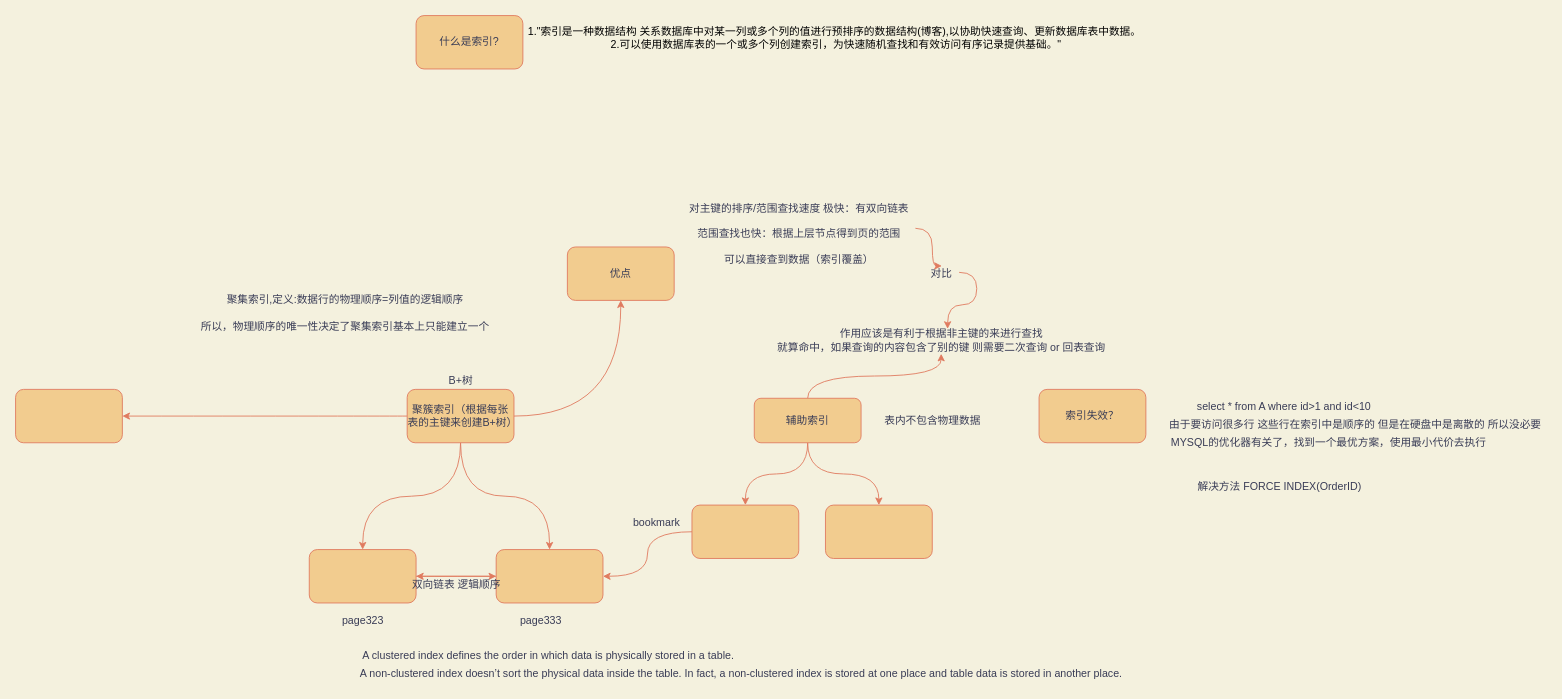
This 1562x699 diagram has some shape labels left out. Here are the shapes that lost their labels. From the top down, the box of each, then its label:
(691, 504, 799, 558): 叶子节点（不一定存储全部内容 to page 333）
(825, 504, 932, 558): to page 10 line 3
(495, 549, 603, 603): 叶子节点 数据页 存储内容
